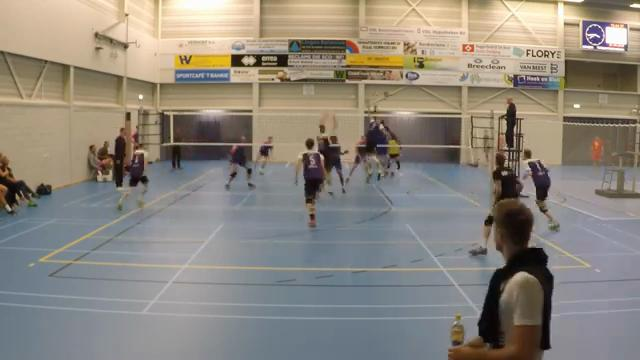alzata: (360, 99, 387, 187)
